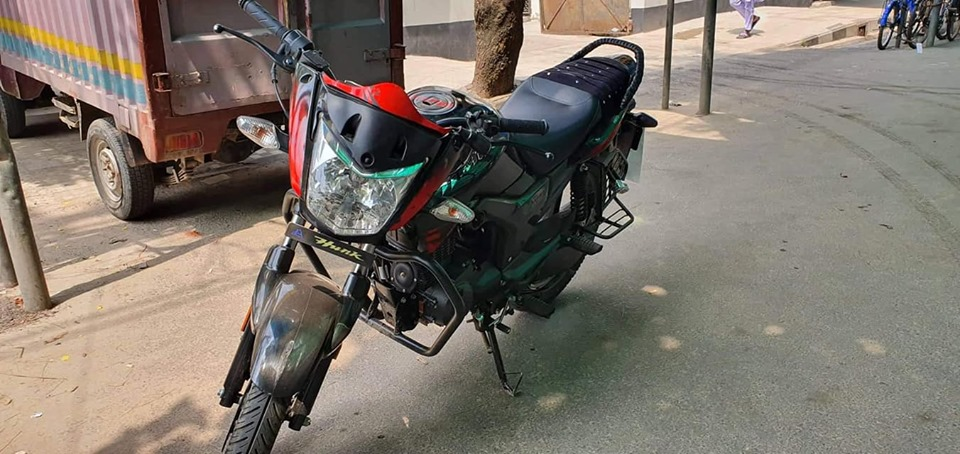bike: (197, 1, 661, 453)
truck: (2, 2, 407, 215)
